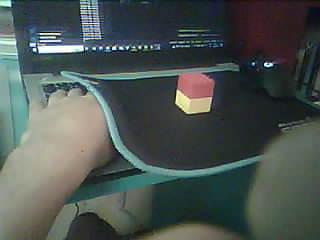lego: (175, 72, 215, 114)
